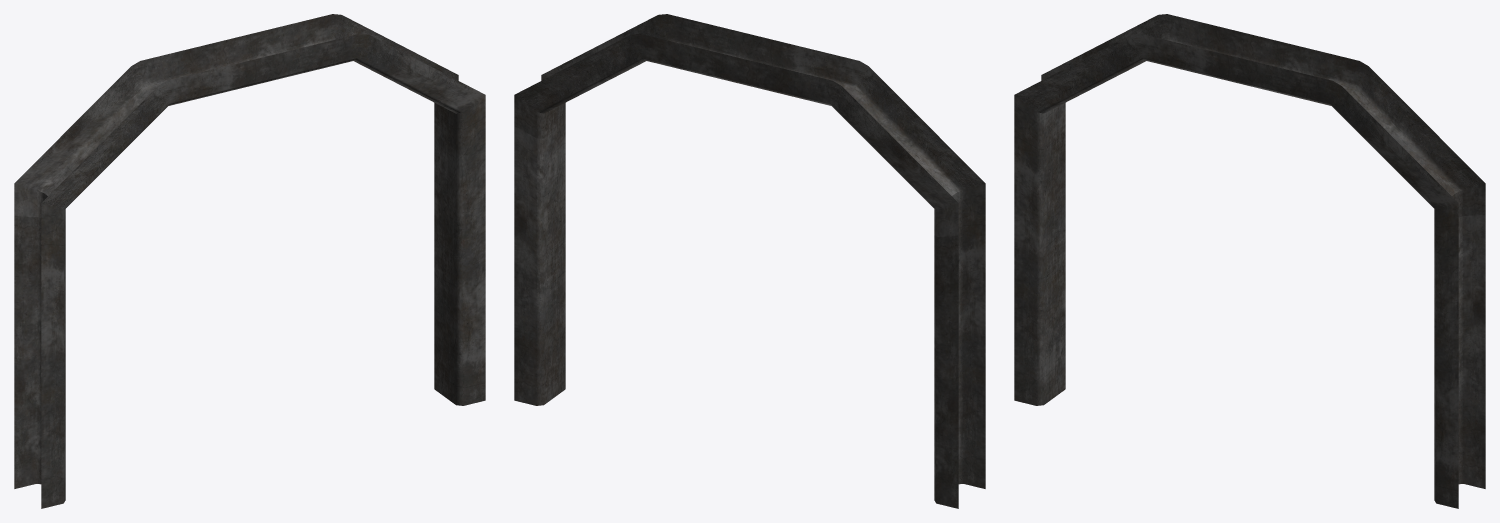
File: Basement_Corridor_A_Concrete_Coloumn.glb
3 renders of one model, left to right at view 1: azimuth 30°, elevation 25°; view 2: azimuth 150°, elevation 25°; view 3: azimuth 330°, elevation 25°, orthographic.
Visible parts, largest first — view 1: Basement_Corridor_A_Concrete_Coloumn; view 2: Basement_Corridor_A_Concrete_Coloumn; view 3: Basement_Corridor_A_Concrete_Coloumn.
Boxes of the visible parts, x1,y1,x2,y2 form: Basement_Corridor_A_Concrete_Coloumn: [14, 14, 485, 508]; Basement_Corridor_A_Concrete_Coloumn: [514, 14, 985, 508]; Basement_Corridor_A_Concrete_Coloumn: [1014, 14, 1485, 508].
Size of the model in its own units: 3.8 by 3.25 by 0.4.
1 material, 1 textured.
